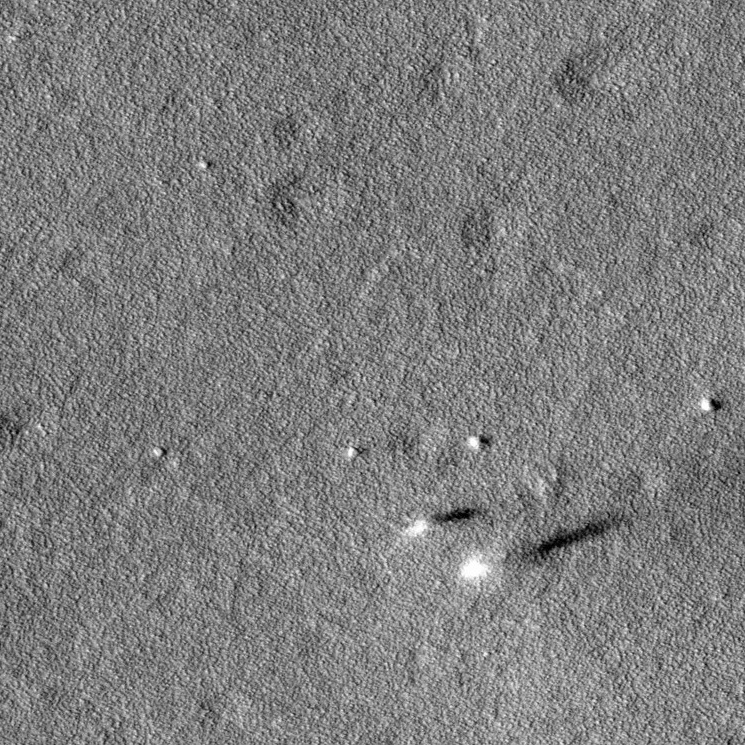dust_devil: (456, 517, 614, 585), (405, 505, 484, 540), (469, 433, 492, 451), (700, 396, 721, 413)
